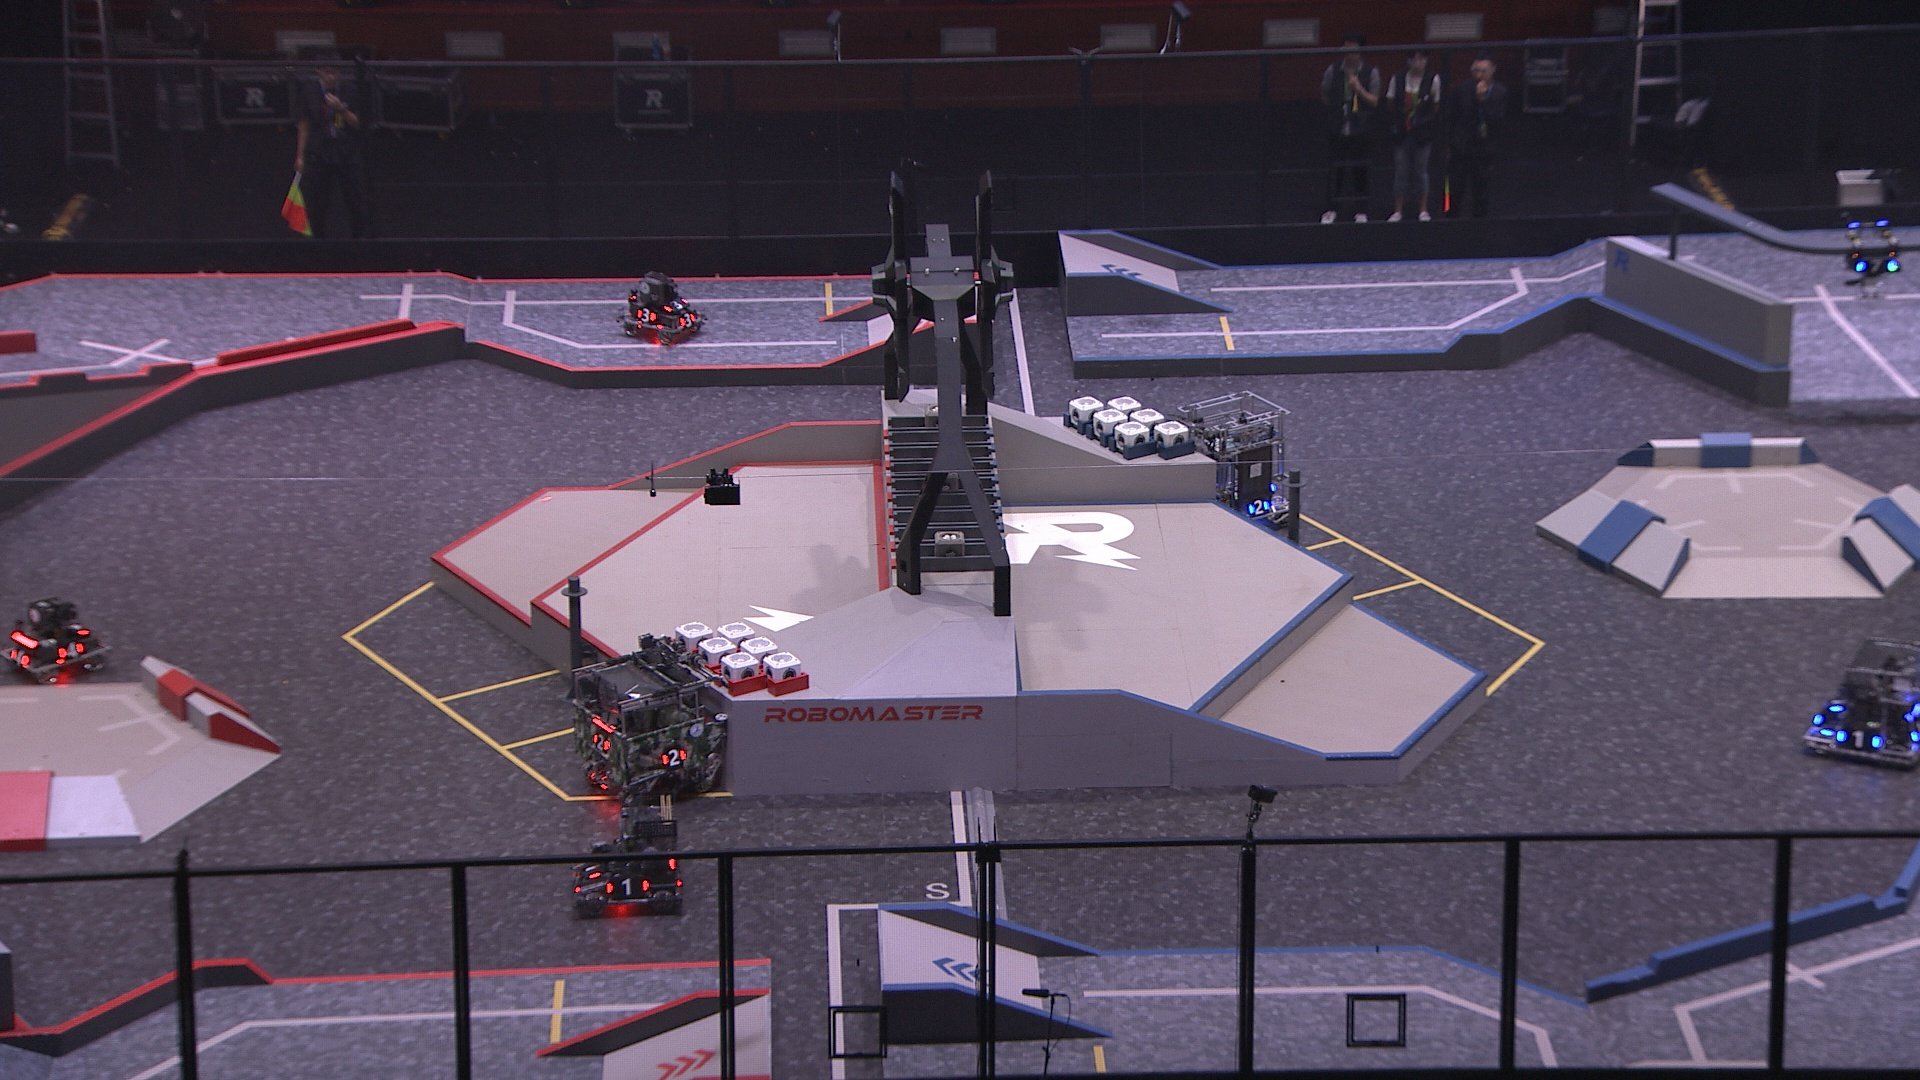armor: (1836, 723, 1884, 754), (599, 876, 651, 903), (1851, 257, 1902, 276), (659, 745, 690, 770), (54, 638, 86, 662), (580, 856, 604, 884), (1245, 495, 1273, 518), (1822, 694, 1849, 717), (8, 647, 36, 670), (589, 731, 615, 754), (636, 302, 659, 324), (65, 618, 90, 640), (661, 295, 688, 314), (678, 309, 698, 328)
car: (570, 644, 732, 802), (1171, 390, 1295, 531), (568, 790, 686, 920), (1807, 637, 1920, 770), (615, 272, 703, 343)
watcher: (1836, 206, 1903, 301)
